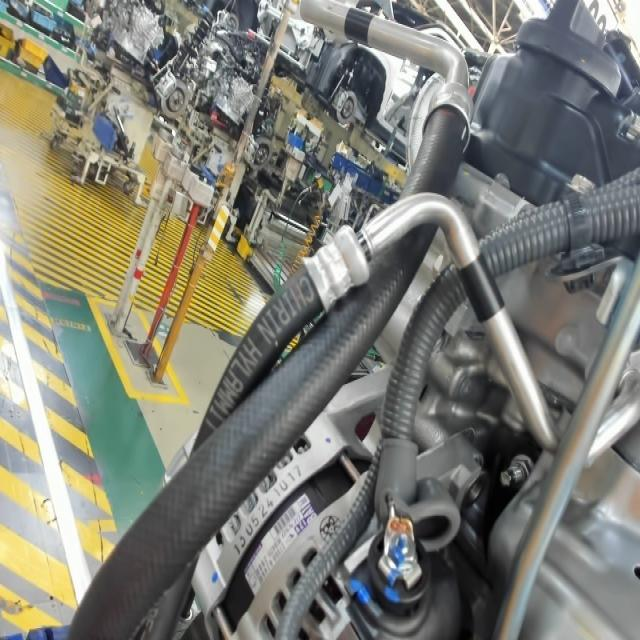Alternator-BA1: (293, 494, 319, 524)
Hose Discharge-HT: (452, 248, 514, 331)
